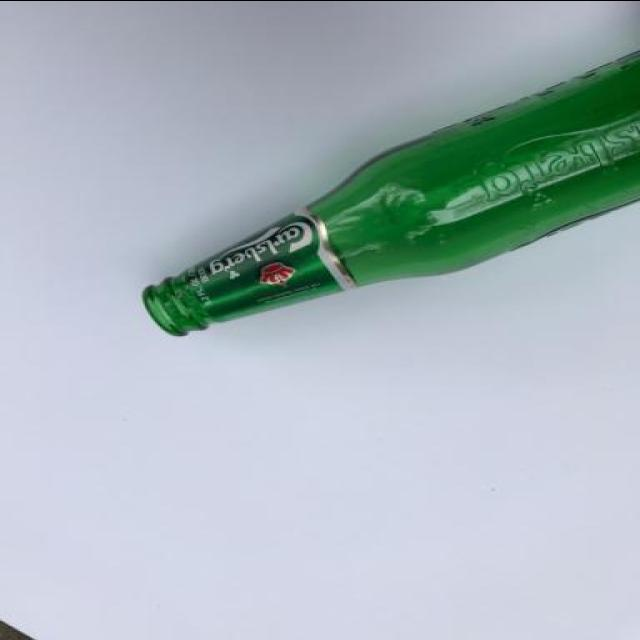Glass Bottle: (138, 48, 638, 338)
